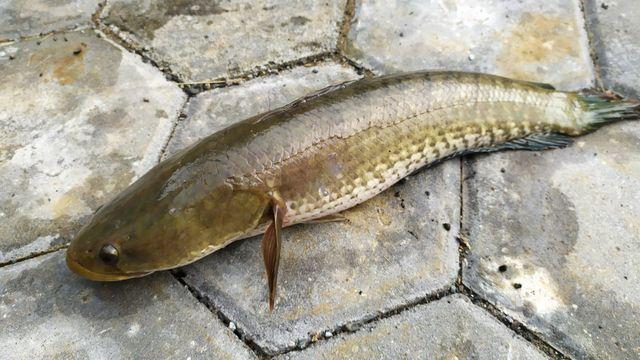Mudfish: (69, 66, 640, 307)
